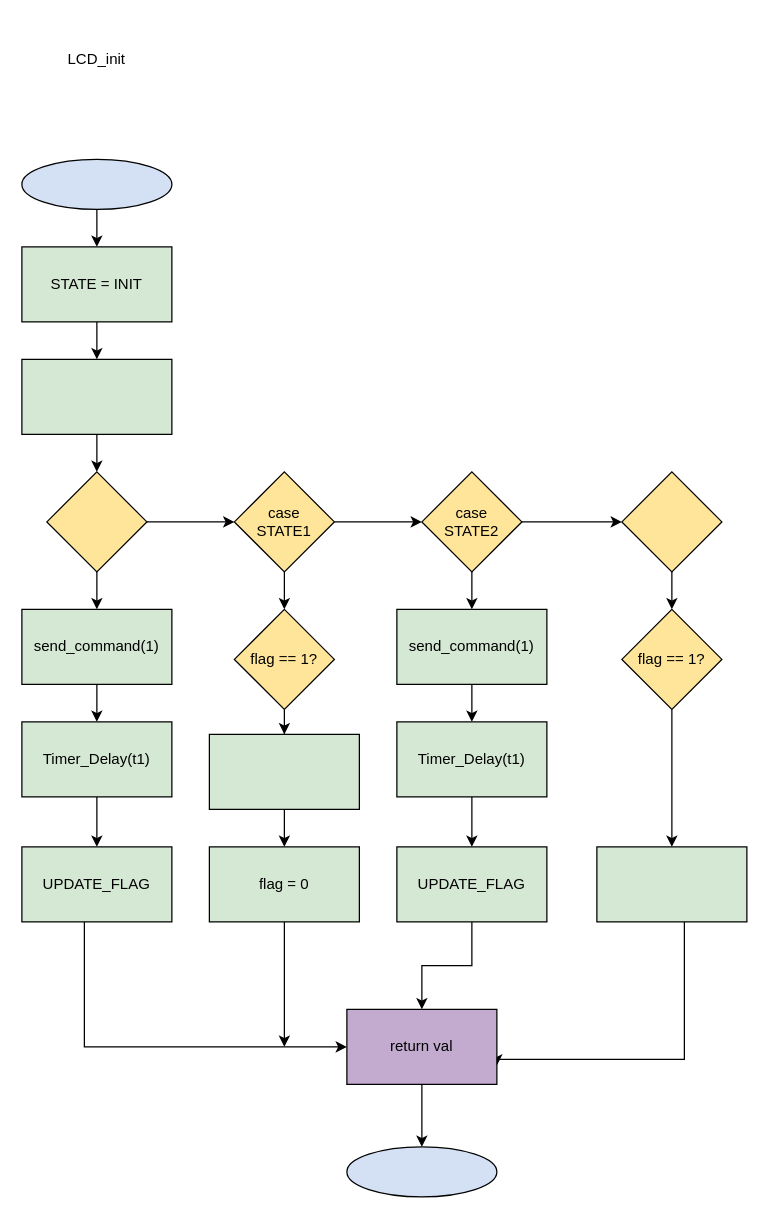
The diagram is 769 pixels wide and 1219 high, and some of its shapes have lost their labels. Here are the shapes that lost their labels. From the top down, the box of each, then its label:
(21, 158, 172, 209): START
(21, 358, 172, 434): ret_val = 0
(46, 471, 147, 572): case INIT
(621, 471, 722, 572): case STATEx
(208, 733, 359, 809): STATE = STATE2
(596, 846, 747, 922): ret_val = 1;
(346, 1146, 497, 1197): END
